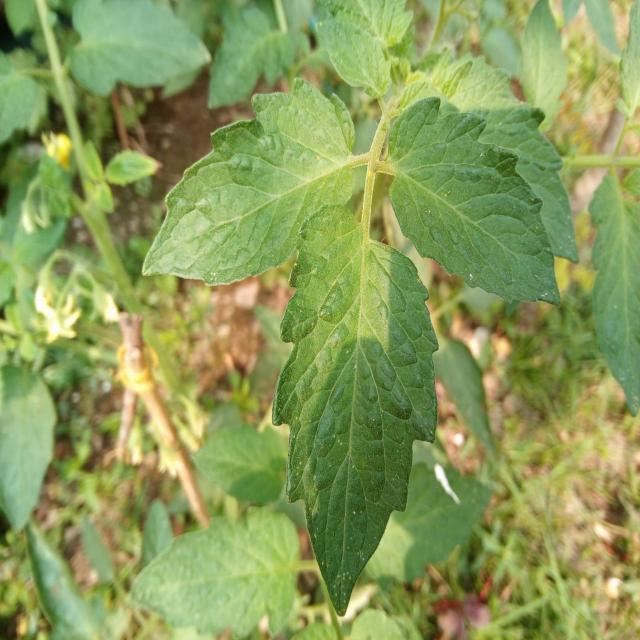Healthy: (255, 201, 455, 619), (108, 54, 395, 336), (348, 73, 596, 352)
